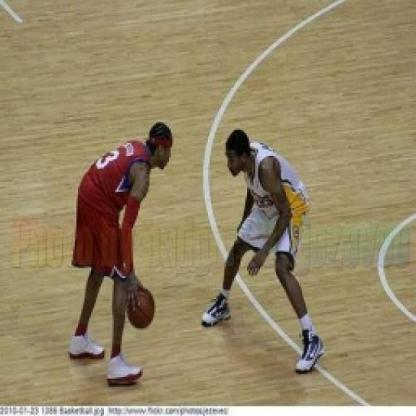basketball: (122, 284, 160, 332)
